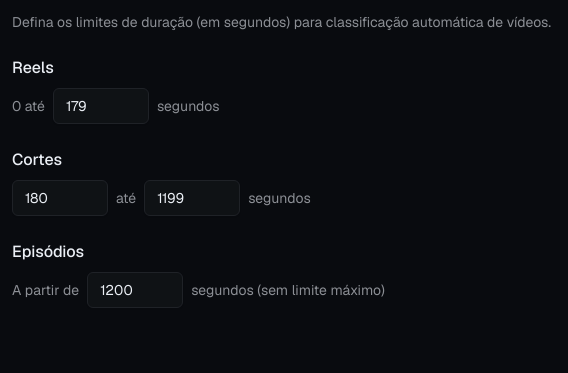
Test: DurationSettingsForm › shows validation error for overlapping values (cut max >= episode min)
Replace the text in the number field named "Duração máxima de Cortes em segundos" with "1500" at x=192, y=198, box [144,180,240,216]
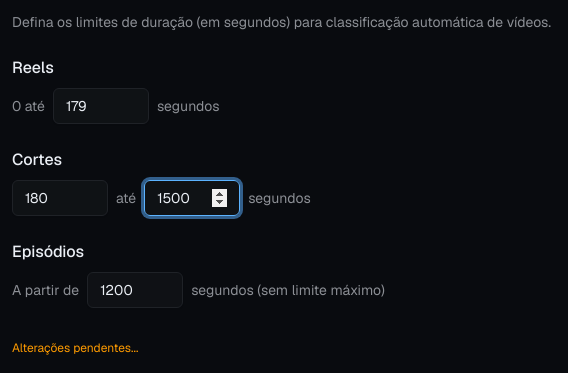
Leave the number field named "Duração máxima de Cortes em segundos", box [144,180,240,216]
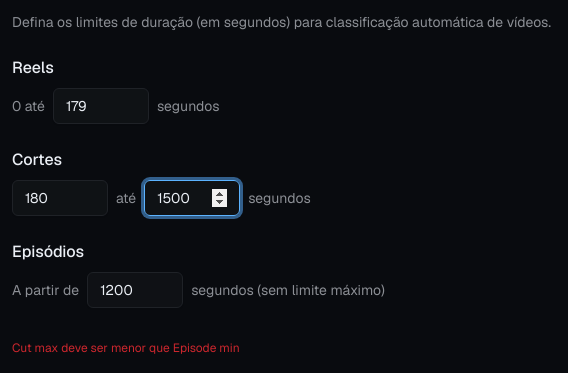
Expected: the text "Cut max deve ser menor que Episode min" is shown, [12,340,240,356]
